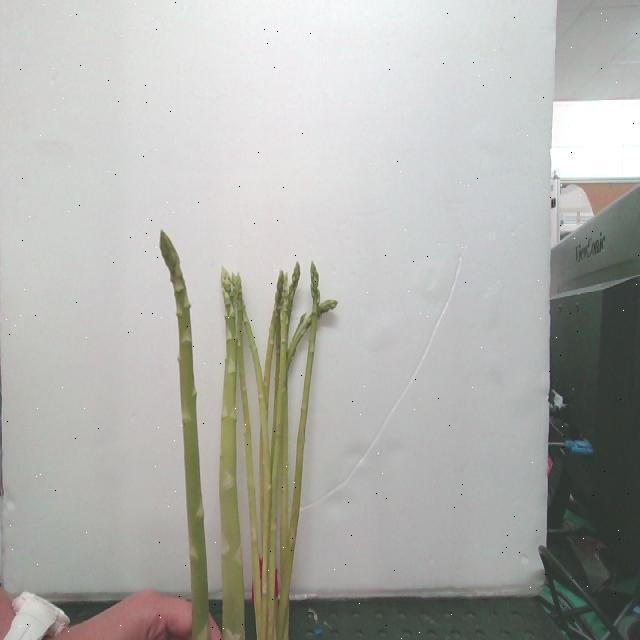aspargus: (157, 232, 209, 640), (219, 264, 247, 640)
